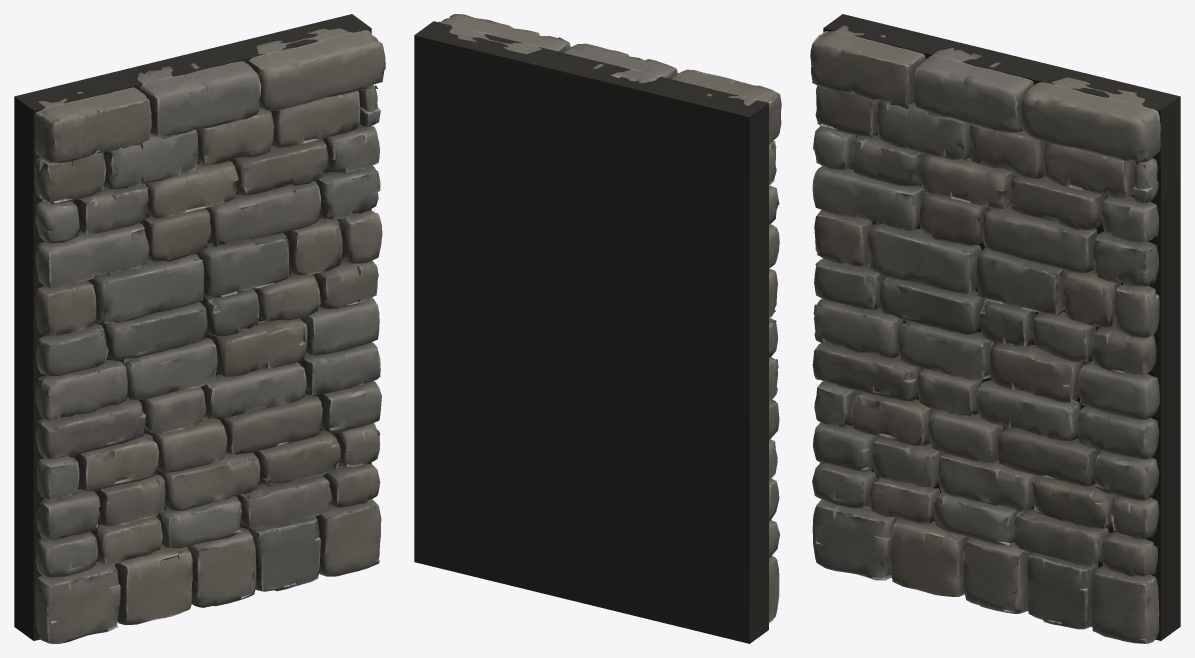
Rendered from gallows_wall.glb.
3 views of the same model, side by side, from view 1: azimuth 30°, elevation 25°; view 2: azimuth 150°, elevation 25°; view 3: azimuth 330°, elevation 25° (orthographic).
Parts seen in each view (by area): view 1: gallows_wall; view 2: gallows_wall; view 3: gallows_wall.
Boxes of the visible parts, <box> form: gallows_wall: <box>14,14,385,643</box>; gallows_wall: <box>414,14,781,643</box>; gallows_wall: <box>810,14,1180,643</box>.
Bounding box in the file's own units: 4 × 6.01 × 0.7653.
Materials: 1 (1 with a texture image).
